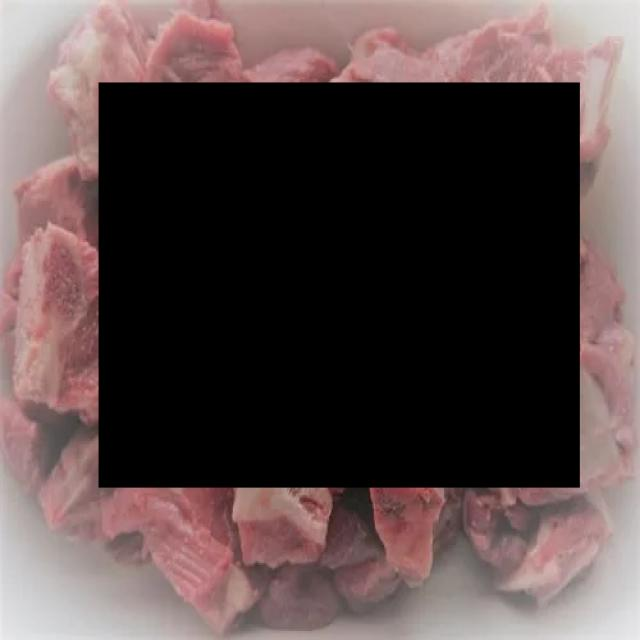Mutton: (99, 84, 580, 490)
